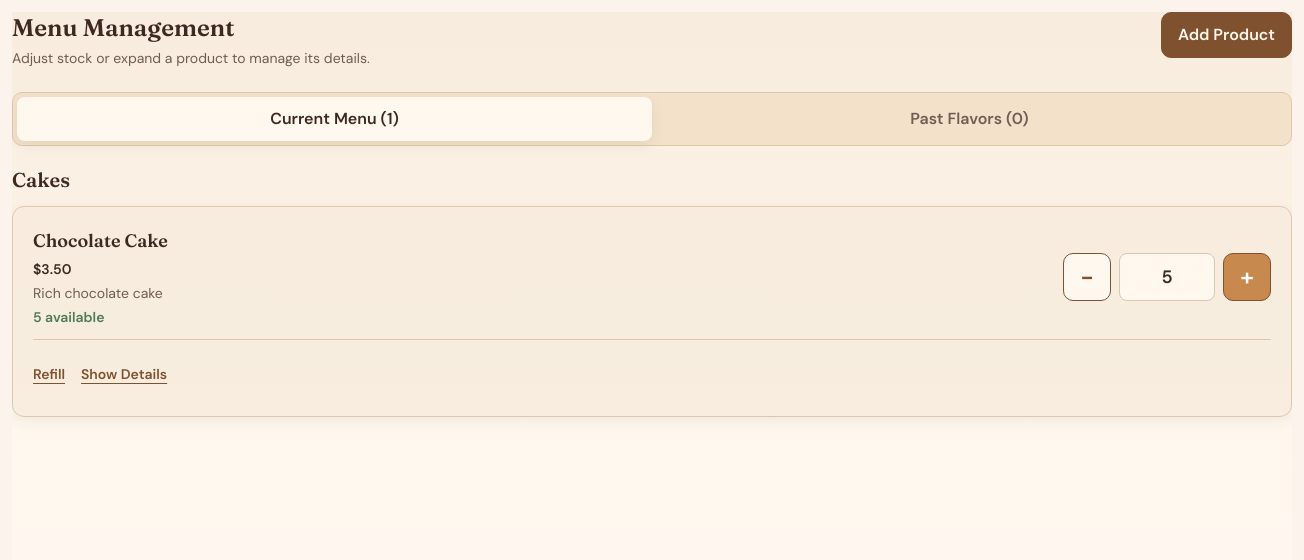
AdminMenu refill interaction › rejects invalid refill -1 without mutating
The width and height of the screenshot is (1304, 560).
Expected: the heading "Chocolate Cake" is shown, [33, 229, 168, 252]
Click the button "Refill" at (49, 374), box [33, 352, 65, 396]
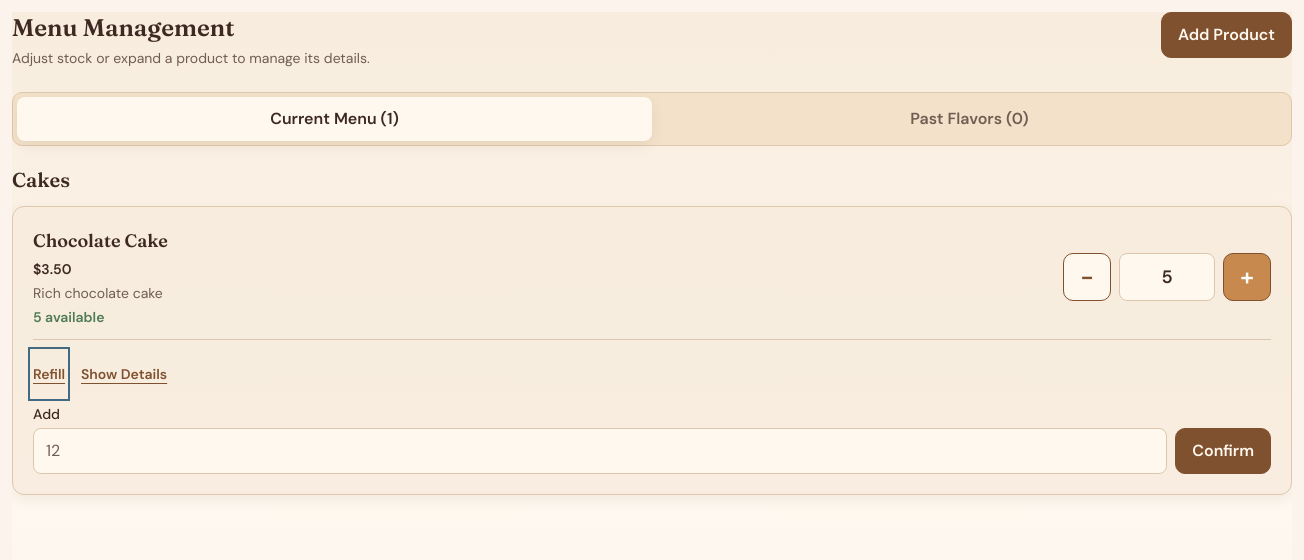
Type "-1" into the field named "Refill amount for Chocolate Cake" at (600, 451), box [33, 428, 1167, 474]
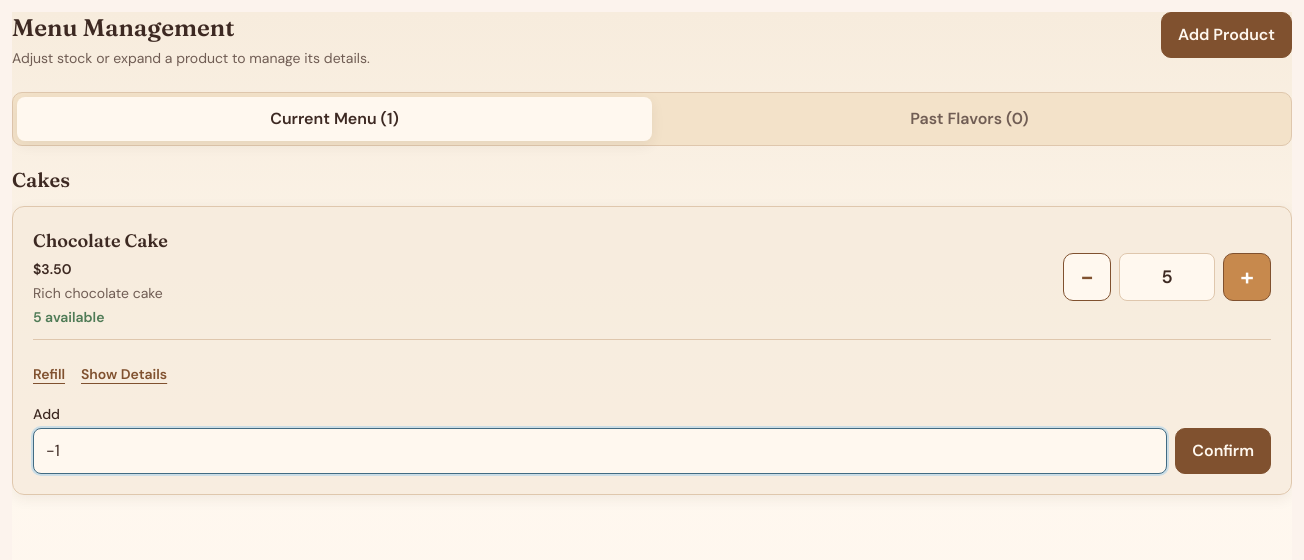
Click the button "Confirm" at (1223, 451), box [1175, 428, 1271, 474]
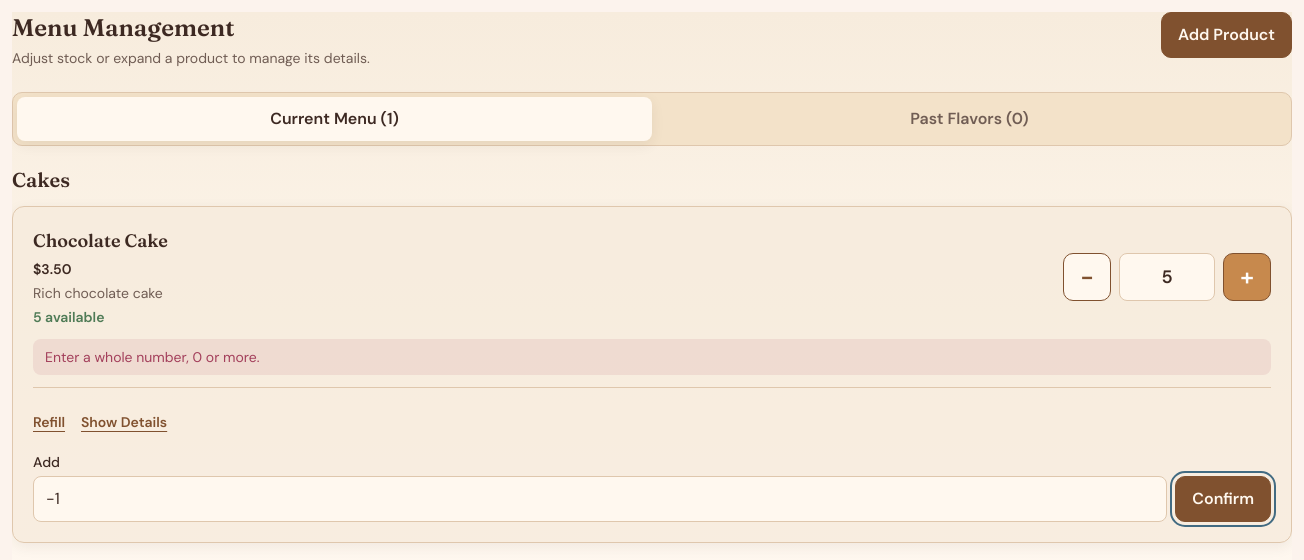
Expected: the message reads "Enter a whole number, 0 or more.", [45, 348, 260, 366]
